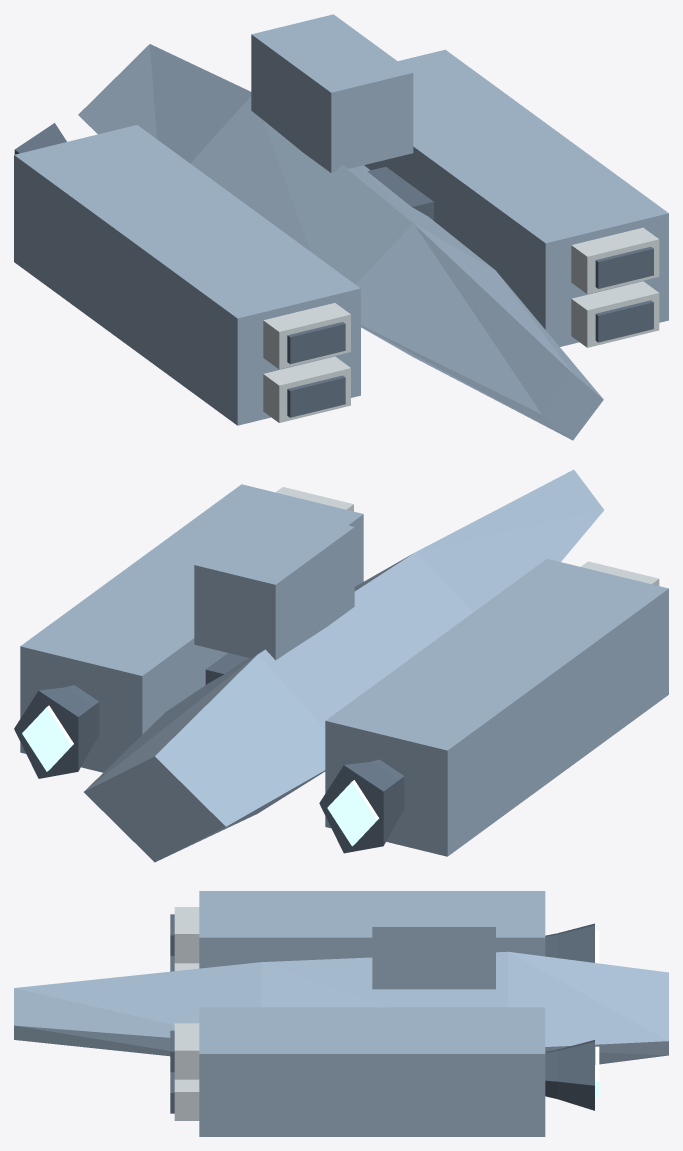
The picture shows the model from 3 angles, top to bottom: view 1: azimuth 30°, elevation 25°; view 2: azimuth 150°, elevation 25°; view 3: azimuth 270°, elevation 25°; orthographic projection. The views are drawn at different scales.
Bounding box in the file's own units: 8.36 × 4.22 × 14.21.
